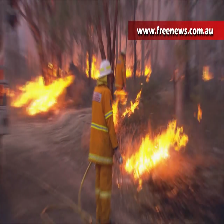fire_h: (125, 120, 189, 189), (3, 64, 72, 116), (122, 88, 144, 118), (112, 89, 127, 132)
fire_l: (91, 54, 100, 79), (202, 64, 213, 82), (85, 51, 90, 77), (145, 63, 151, 83), (125, 68, 135, 78), (197, 104, 202, 122), (135, 70, 145, 77)
